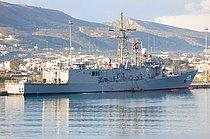MIL_Ship: (4, 53, 198, 92)
